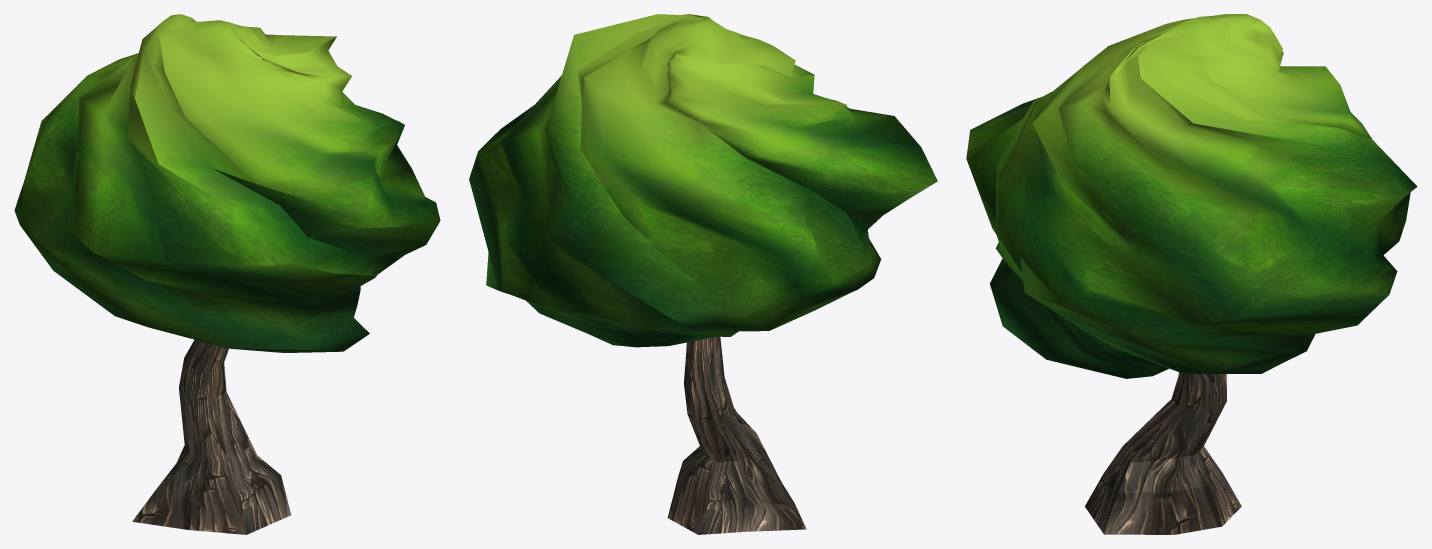
Rendered from Tree_01.FBX.
The picture shows the model from 3 angles, left to right: view 1: azimuth 30°, elevation 25°; view 2: azimuth 150°, elevation 25°; view 3: azimuth 270°, elevation 25°; orthographic projection. The views are drawn at different scales.
Parts seen in each view (by area): view 1: tree_01; view 2: tree_01; view 3: tree_01.
Boxes of the visible parts, x1=… form: tree_01: x1=14, y1=14, x2=440, y2=534; tree_01: x1=469, y1=14, x2=937, y2=534; tree_01: x1=966, y1=14, x2=1417, y2=534.
Size of the model in its own units: 250 by 296 by 243.
